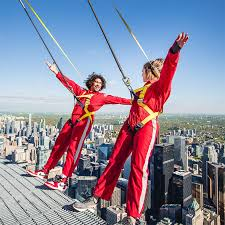Caution: (29, 58, 164, 223)
